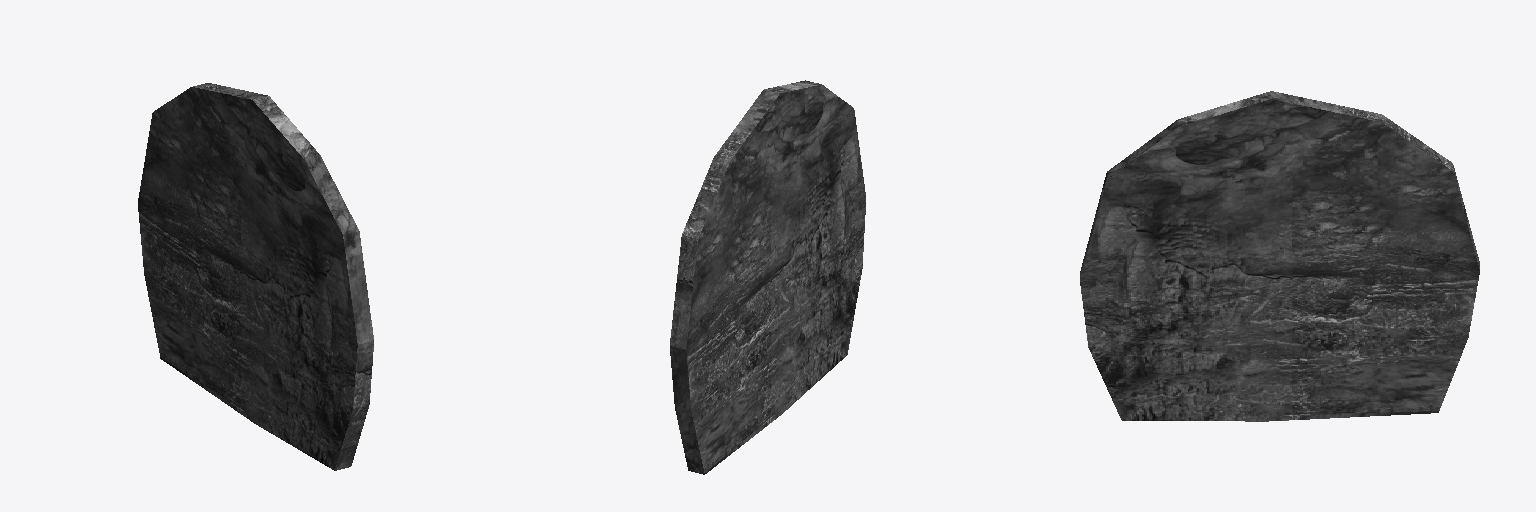
3 views of the same model, side by side, from view 1: azimuth 30°, elevation 25°; view 2: azimuth 150°, elevation 25°; view 3: azimuth 270°, elevation 25° (orthographic).
Parts seen in each view (by area): view 1: cavecloser; view 2: cavecloser; view 3: cavecloser.
Part boxes in pixels (left/top/right/bottom): cavecloser: left=138, top=83, right=373, bottom=470; cavecloser: left=670, top=80, right=865, bottom=474; cavecloser: left=1080, top=91, right=1479, bottom=421.
Size of the model in its own units: 10.74 by 90.67 by 102.
1 materials, 1 textured.